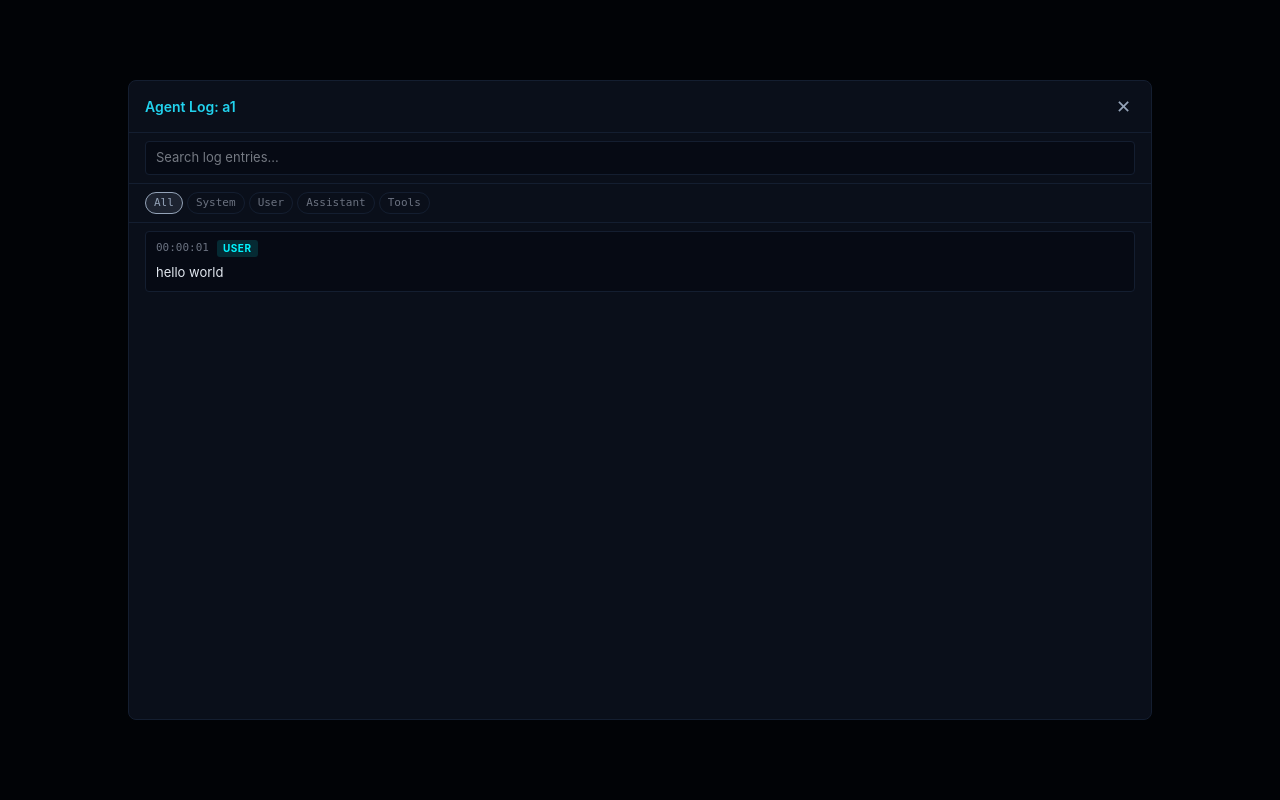
Test: LogViewer › shows 'No matching entries' when search has no matches
This screenshot has width=1280, height=800.
Type "zzznomatch" into the field with placeholder "Search log entries..." at [640, 158], box left=145, top=141, right=1135, bottom=174
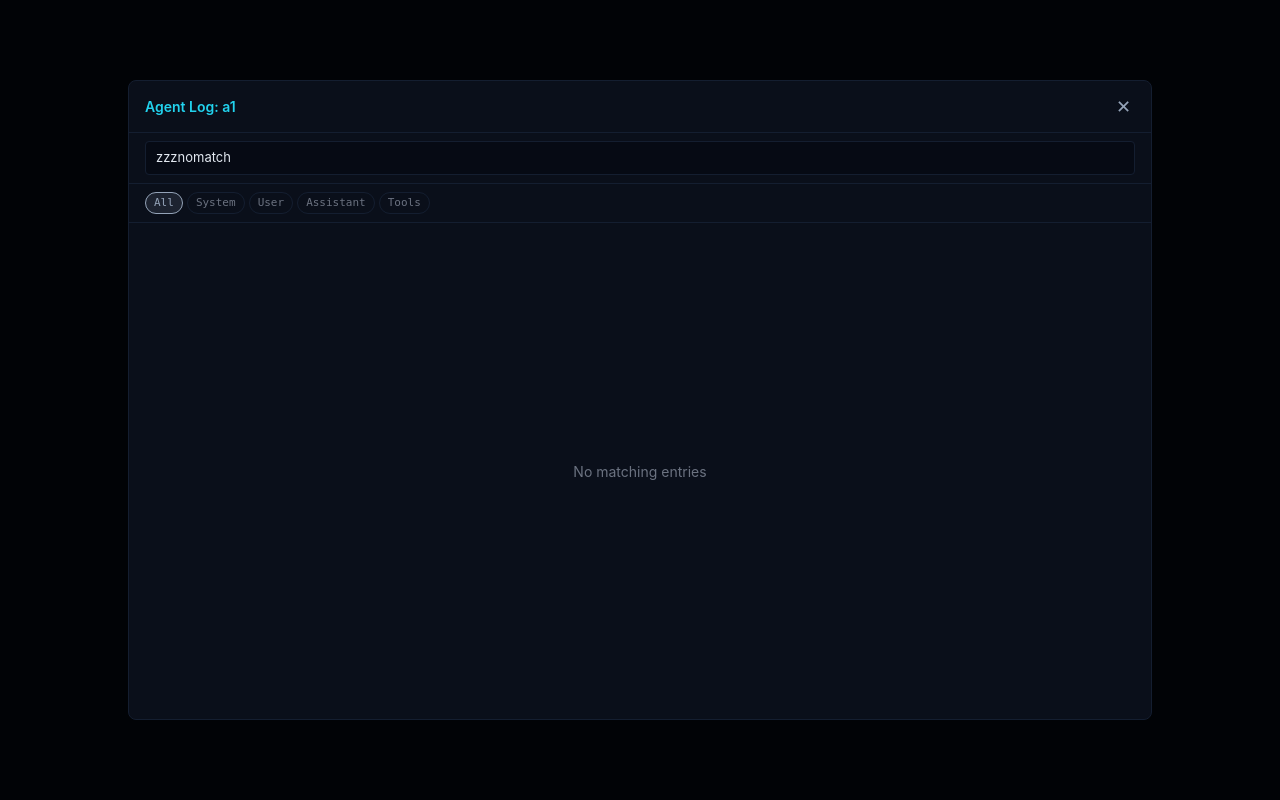
Expected: the text "No matching entries" is shown, left=573, top=462, right=707, bottom=480
